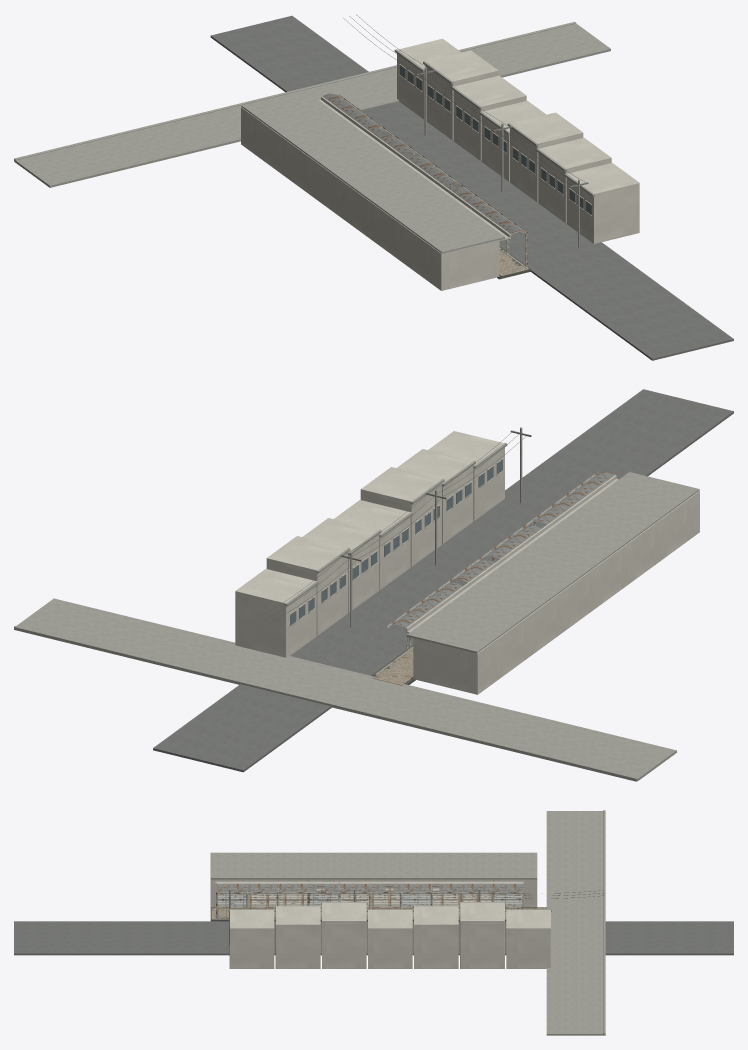
Rendered from last-arcade.glb.
3 views of the same model, one above another, from view 1: azimuth 30°, elevation 25°; view 2: azimuth 150°, elevation 25°; view 3: azimuth 270°, elevation 25° (orthographic). The views are drawn at different scales.
Parts seen in each view (by area): view 1: arcade-kerb-zone-0, arcade-asphalt-zone-0, arcade-plaster-zone-2, arcade-plaster-zone-0, arcade-kerb-zone-2, arcade-distant-window-zone-2, arcade-roof-zinc-zone-0, arcade-roof-zinc-zone-1, arcade-roof-zinc-zone-2, arcade-recess-zone-2, arcade-painted-support-zone-2; view 2: arcade-kerb-zone-0, arcade-asphalt-zone-0, arcade-plaster-zone-2, arcade-plaster-zone-0, arcade-kerb-zone-2, arcade-distant-window-zone-2, arcade-roof-zinc-zone-0, arcade-roof-zinc-zone-1, arcade-roof-zinc-zone-2, arcade-recess-zone-2, arcade-painted-support-zone-2; view 3: arcade-kerb-zone-0, arcade-plaster-zone-2, arcade-asphalt-zone-0, arcade-roof-zinc-zone-0, arcade-plaster-zone-0, arcade-shutter-zone-0, arcade-shutter-zone-1, arcade-roof-zinc-zone-1, arcade-shutter-faded-zone-0, arcade-kerb-zone-2, arcade-recess-zone-2, arcade-roof-zinc-zone-2 (+3 smaller).
Boxes of the visible parts, x1,y1,x2,y2 form: arcade-kerb-zone-0: (14,21,610,269); arcade-asphalt-zone-0: (210,15,733,360); arcade-plaster-zone-2: (321,38,639,243); arcade-plaster-zone-0: (241,107,510,290); arcade-kerb-zone-2: (394,49,594,247); arcade-distant-window-zone-2: (400,65,591,214); arcade-roof-zinc-zone-0: (338,99,527,252); arcade-roof-zinc-zone-1: (360,121,433,164); arcade-roof-zinc-zone-2: (322,70,588,187); arcade-recess-zone-2: (343,14,584,184); arcade-painted-support-zone-2: (339,64,591,215); arcade-kerb-zone-0: (14,472,699,781); arcade-asphalt-zone-0: (153,389,733,772); arcade-plaster-zone-2: (235,431,504,657); arcade-plaster-zone-0: (413,475,699,694); arcade-kerb-zone-2: (284,427,522,674); arcade-distant-window-zone-2: (290,459,502,625); arcade-roof-zinc-zone-0: (389,472,614,627); arcade-roof-zinc-zone-1: (431,548,510,597); arcade-roof-zinc-zone-2: (340,430,531,644); arcade-recess-zone-2: (259,430,528,620); arcade-painted-support-zone-2: (289,458,503,649); arcade-kerb-zone-0: (210,810,605,1035); arcade-plaster-zone-2: (229,879,550,968); arcade-asphalt-zone-0: (14,921,733,955); arcade-roof-zinc-zone-0: (213,883,523,920); arcade-plaster-zone-0: (210,879,537,908); arcade-shutter-zone-0: (248,893,368,906); arcade-shutter-zone-1: (371,887,460,906); arcade-roof-zinc-zone-1: (369,883,462,892); arcade-shutter-faded-zone-0: (218,887,338,906); arcade-kerb-zone-2: (228,889,551,944); arcade-recess-zone-2: (230,890,603,921); arcade-roof-zinc-zone-2: (229,883,523,898).
Size of what is drawn, in the model's own units: 55 by 6.51 by 75.
Materials: 23 (15 with a texture image).
